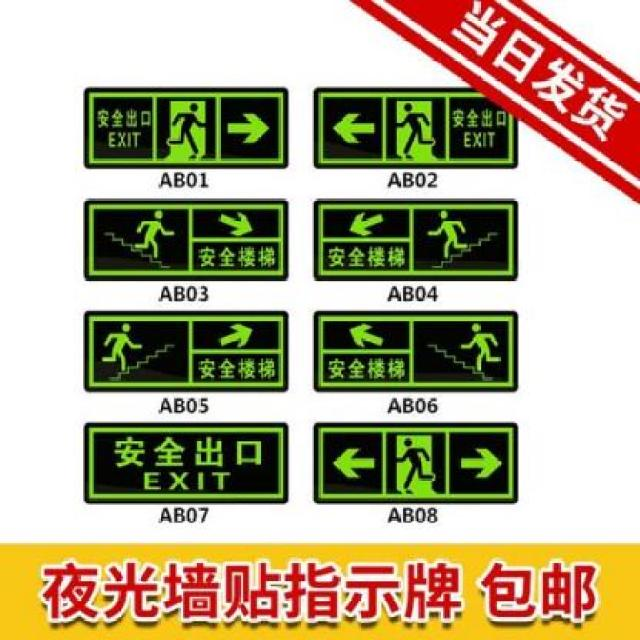exit_sign: (306, 196, 522, 286), (312, 421, 526, 507), (80, 310, 288, 398), (309, 312, 526, 396), (78, 194, 290, 278), (82, 417, 288, 502), (311, 86, 518, 170), (79, 80, 288, 162)
